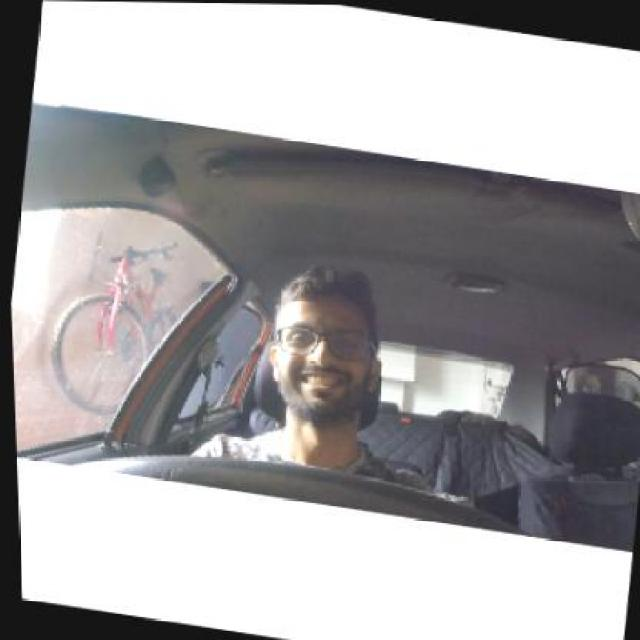person: (262, 261, 390, 434)
